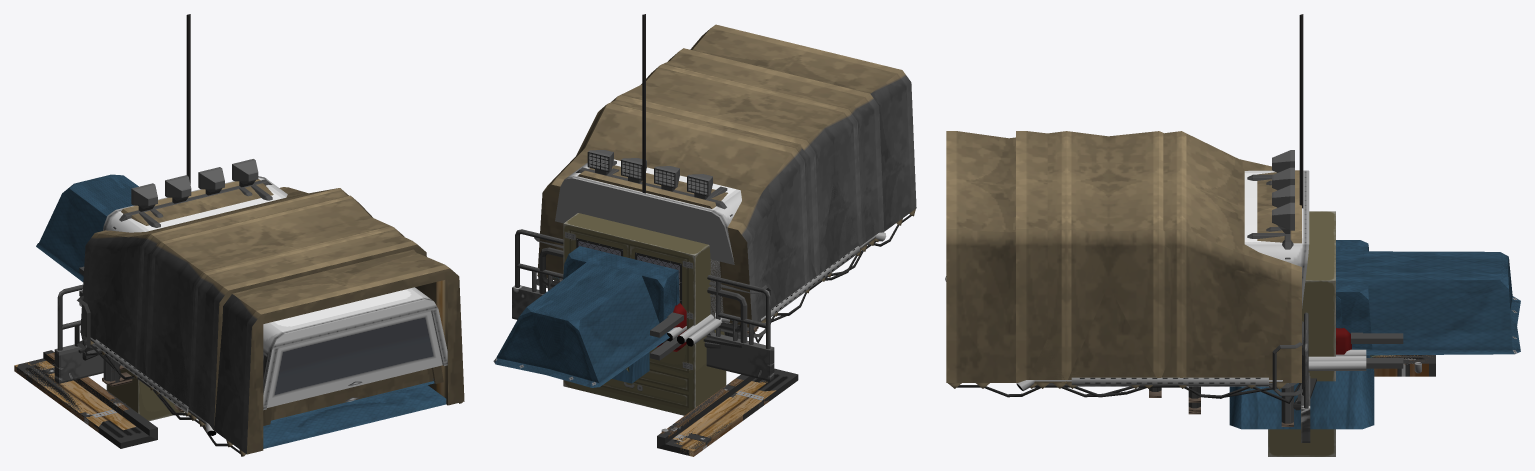
File: frparts.fbx
3 renders of one model, left to right at view 1: azimuth 30°, elevation 25°; view 2: azimuth 150°, elevation 25°; view 3: azimuth 270°, elevation 25°, orthographic. The views are drawn at different scales.
Visible parts, largest first — view 1: bed_long_cap_soft_1, bed_short_cap_soft_1, bed_long_cap_hard_71c10, trunkfiller_tarphuge1, bed_long_cover_tarp_1, sidestep3100normal, bed_short_cap_soft_70camino, rollcage3, sidestep3100old, bed_step_cap_soft_1, bumperoffroad_l1, armorymilitary (+6 smaller); view 2: bed_long_cap_soft_1, bed_short_cap_soft_1, trunkfiller_tarphuge1, armorymilitary, bed_long_cap_hard_71c10, bumperoffroad_l1, trunkfiller_tarpbig2, sidestep3100normal, sidestep3100old, bed_step_cap_soft_1, rollcage1, sidestep3100oldbroken (+8 smaller); view 3: bed_long_cap_soft_1, bed_short_cap_soft_1, trunkfiller_tarphuge1, armorymilitary, tiretarp1, bed_long_cap_hard_71c10, mufflerside1, rollcage3, trunkfiller_tarpbig2, bed_step_cap_soft_1, antenna_ham_mil1, bumperoffroad_l1 (+4 smaller).
Part boxes in pixels (x1,y1,x2,y2): bed_long_cap_soft_1: (81,187,464,456); bed_short_cap_soft_1: (80,187,426,430); bed_long_cap_hard_71c10: (103,176,447,410); trunkfiller_tarphuge1: (36,174,138,281); bed_long_cover_tarp_1: (263,385,446,448); sidestep3100normal: (17,350,157,448); bed_short_cap_soft_70camino: (263,366,443,425); rollcage3: (102,160,259,410); sidestep3100old: (14,352,128,429); bed_step_cap_soft_1: (121,179,273,225); bumperoffroad_l1: (54,284,103,383); armorymilitary: (106,369,184,421); bed_long_cap_soft_1: (537,24,916,343); bed_short_cap_soft_1: (537,48,884,326); trunkfiller_tarphuge1: (493,258,673,387); armorymilitary: (563,213,726,415); bed_long_cap_hard_71c10: (555,159,741,264); bumperoffroad_l1: (512,229,774,381); trunkfiller_tarpbig2: (563,246,678,323); sidestep3100normal: (657,368,798,455); sidestep3100old: (660,378,767,456); bed_step_cap_soft_1: (577,165,727,334); rollcage1: (580,150,717,206); sidestep3100oldbroken: (668,378,776,450); bed_long_cap_soft_1: (946,131,1301,403); bed_short_cap_soft_1: (1016,131,1301,397); trunkfiller_tarphuge1: (1336,251,1520,355); armorymilitary: (1268,211,1335,456); tiretarp1: (1229,355,1374,429); bed_long_cap_hard_71c10: (945,170,1309,308); mufflerside1: (1016,377,1288,390); rollcage3: (1188,152,1294,426); trunkfiller_tarpbig2: (1336,240,1372,349); bed_step_cap_soft_1: (1257,170,1301,243); antenna_ham_mil1: (1299,14,1303,208); bumperoffroad_l1: (1301,312,1310,442).
Bounding box in the file's own units: 230 × 321 × 411.
